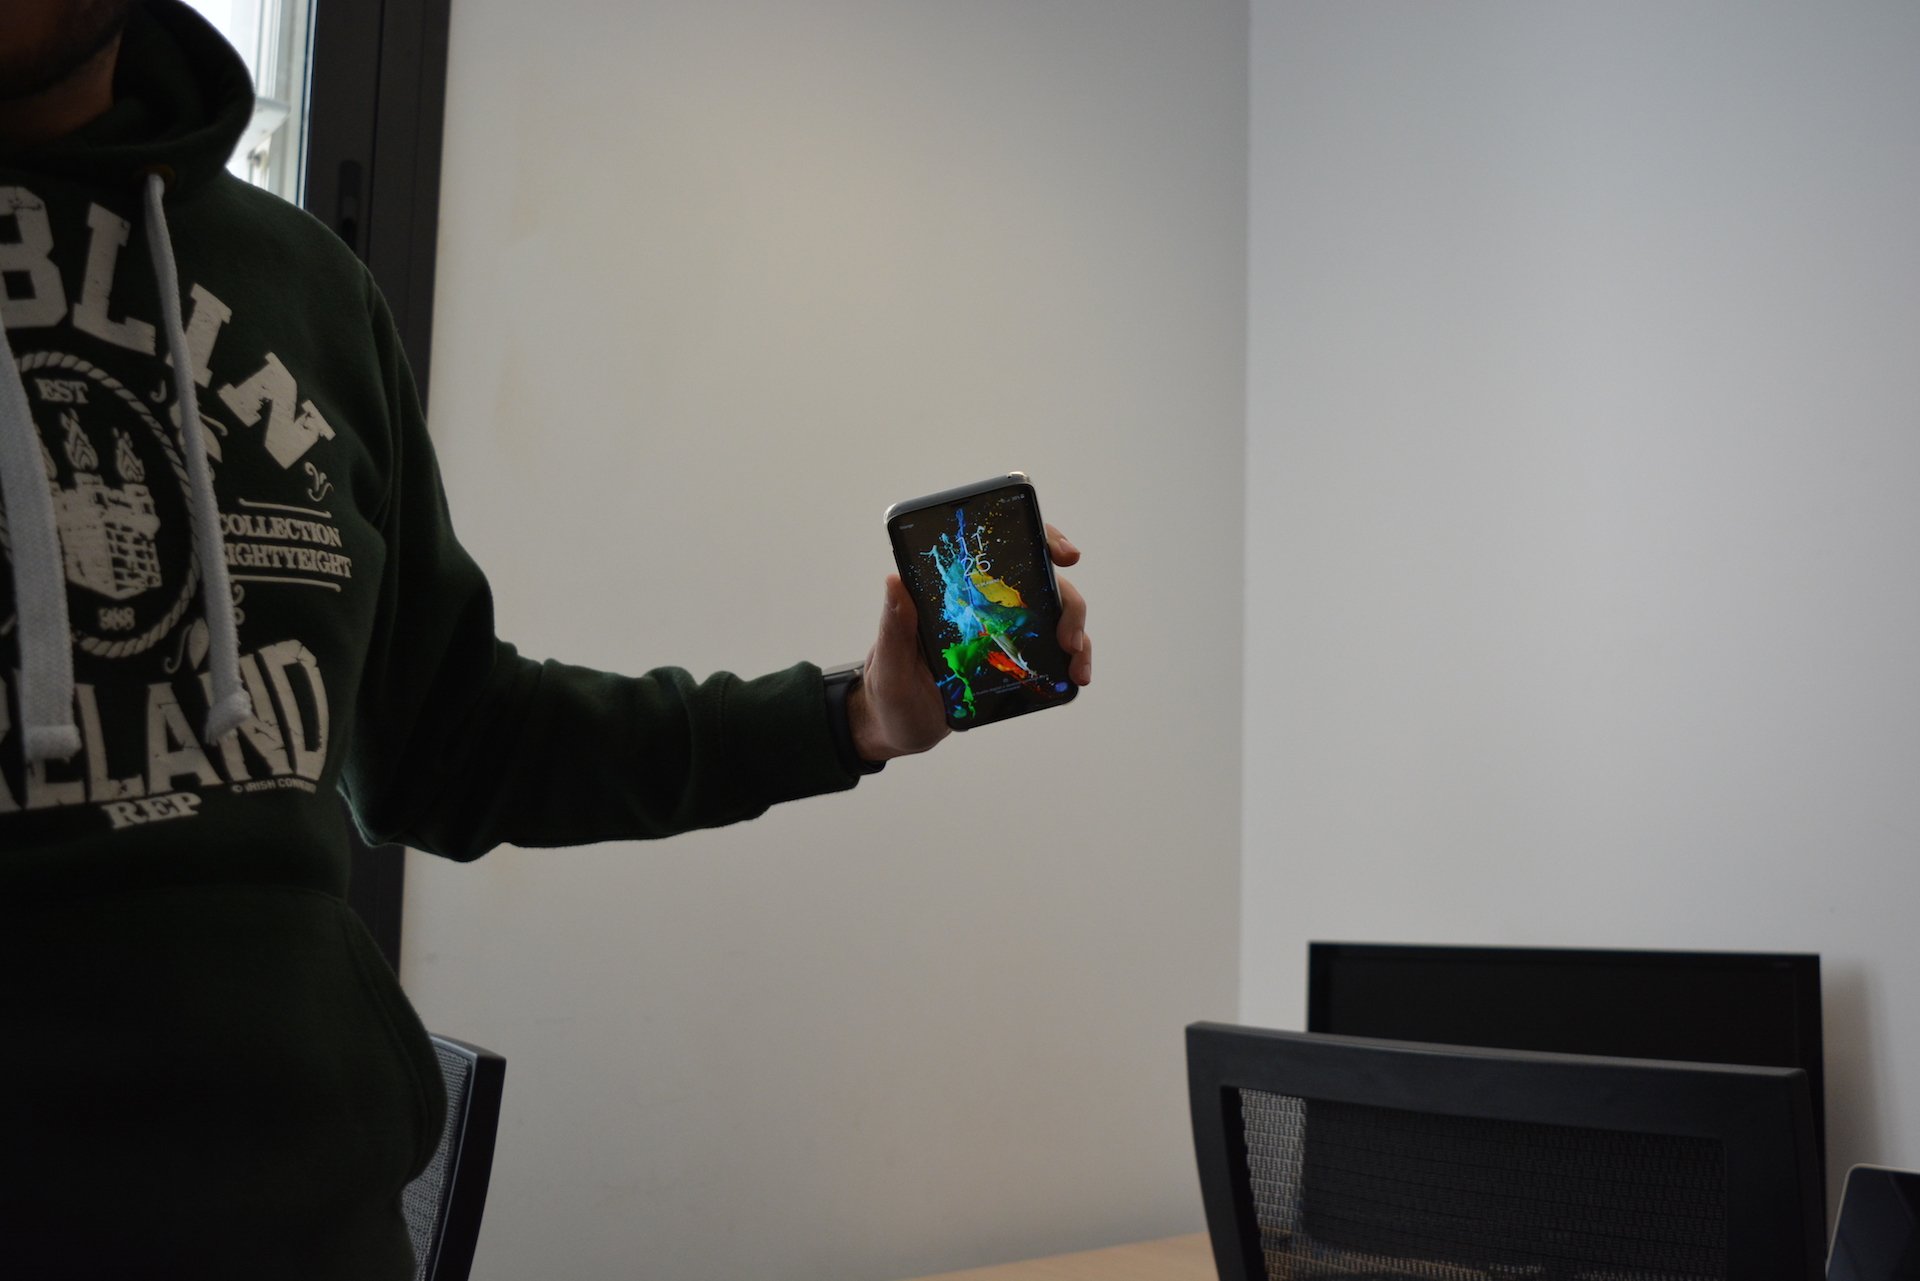smartphone: (882, 470, 1084, 735)
